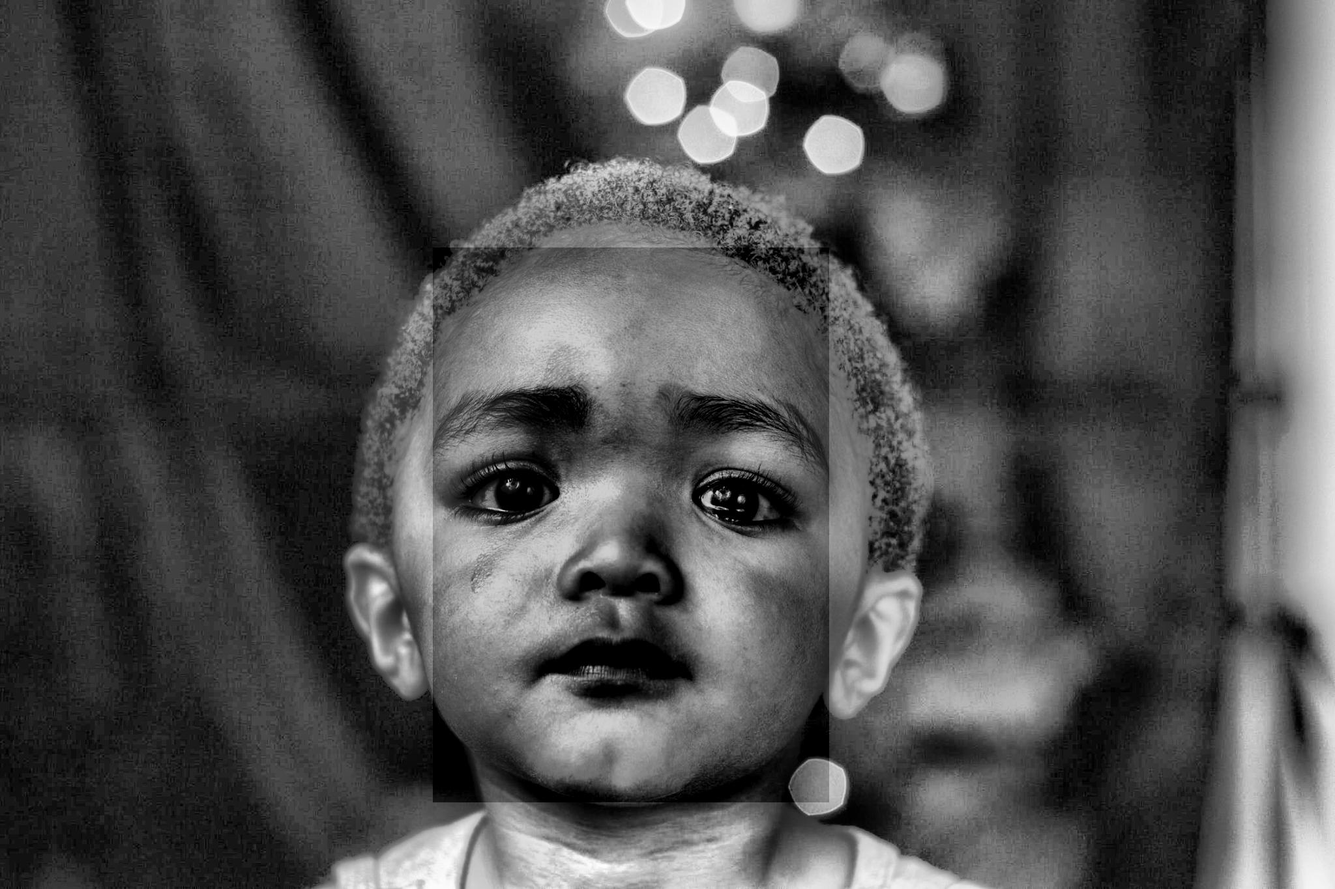sad: (433, 247, 829, 802)
